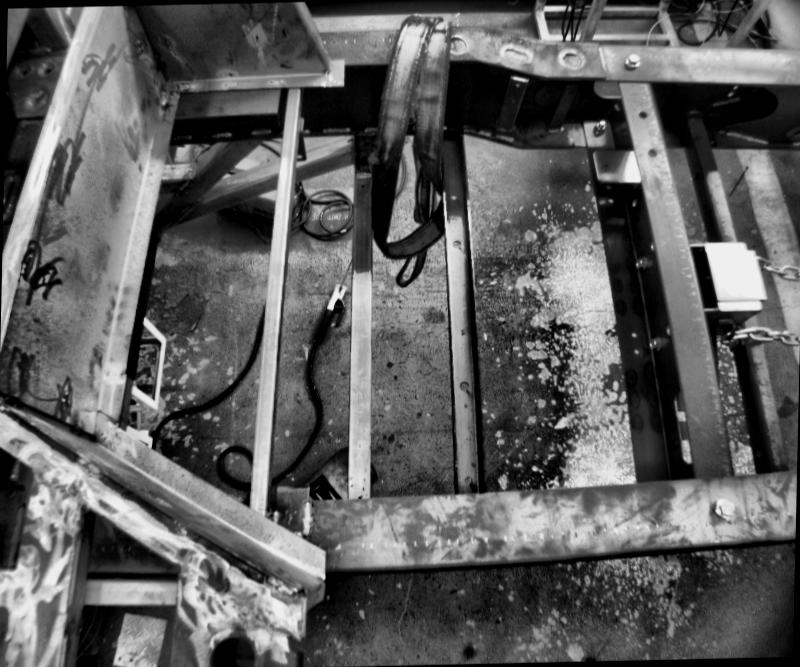bolt: (710, 496, 744, 520), (621, 48, 641, 70), (594, 118, 608, 136), (648, 337, 664, 352), (634, 257, 648, 271)
bracket: (272, 474, 322, 528), (494, 72, 528, 136), (542, 78, 578, 137), (591, 146, 643, 184), (290, 115, 312, 163)
hole: (210, 635, 255, 666), (457, 380, 471, 392), (462, 474, 473, 486), (638, 110, 648, 120), (647, 146, 657, 156), (630, 331, 640, 339), (629, 197, 637, 207), (449, 193, 457, 202), (451, 240, 460, 248), (632, 348, 640, 357), (606, 196, 614, 205), (358, 182, 366, 188), (604, 162, 610, 168), (345, 137, 351, 142), (296, 154, 303, 158)
